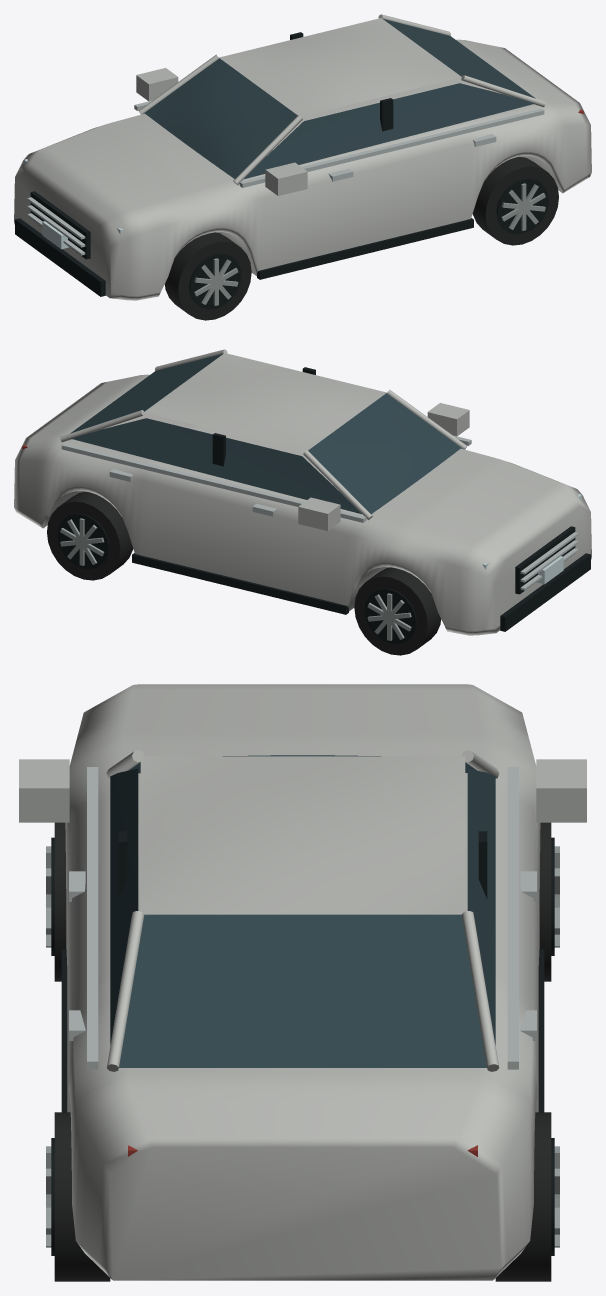
The picture shows the model from 3 angles, top to bottom: view 1: azimuth 30°, elevation 25°; view 2: azimuth 150°, elevation 25°; view 3: azimuth 270°, elevation 25°; orthographic projection. The views are drawn at different scales.
Parts seen in each view (by area): view 1: Contoured body shell, Crowned roof, Curved windscreen, Side glazing, Tyre (×2), Wheel rim (×2), Rear screen, Lower sill, Mirror housing (×2), Door chrome belt, Front lower bumper, Painted pillar (×3) (+2 smaller); view 2: Contoured body shell, Crowned roof, Curved windscreen, Side glazing, Tyre (×2), Wheel rim (×2), Rear screen, Lower sill, Mirror housing (×2), Door chrome belt, Front lower bumper, Painted pillar (×3) (+2 smaller); view 3: Contoured body shell, Rear screen, Crowned roof, Tyre (×4), Side glazing (×2), Door chrome belt (×2), Mirror housing (×2), Painted pillar (×2), Lower sill (×2).
Boxes of the visible parts, x1,y1,x2,y2 form: Contoured body shell: (14,39,591,300); Crowned roof: (219,18,461,116); Curved windscreen: (143,58,297,178); Side glazing: (244,83,534,179); Tyre (×2): (164,156,558,320); Wheel rim (×2): (189,178,548,309); Rear screen: (382,18,535,98); Lower sill: (257,218,473,279); Mirror housing (×2): (136,68,307,195); Door chrome belt: (239,108,544,187); Front lower bumper: (15,218,105,296); Painted pillar (×3): (138,54,545,185); Contoured body shell: (14,374,591,635); Crowned roof: (144,353,386,451); Curved windscreen: (308,393,462,514); Side glazing: (71,418,361,514); Tyre (×2): (47,491,441,655); Wheel rim (×2): (57,513,416,644); Rear screen: (70,353,223,433); Lower sill: (132,553,348,614); Mirror housing (×2): (298,403,469,530); Door chrome belt: (61,443,366,522); Front lower bumper: (500,553,590,631); Painted pillar (×3): (60,389,467,520); Contoured body shell: (65,684,540,1280); Rear screen: (119,914,486,1067); Crowned roof: (140,756,465,914); Tyre (×4): (54,822,551,1281); Side glazing (×2): (110,768,495,1044); Door chrome belt (×2): (87,767,518,1069); Mirror housing (×2): (19,759,586,822); Painted pillar (×2): (106,911,499,1071); Lower sill (×2): (61,949,544,1112).
Bounding box in the file's own units: 4.47 × 1.45 × 2.24.
